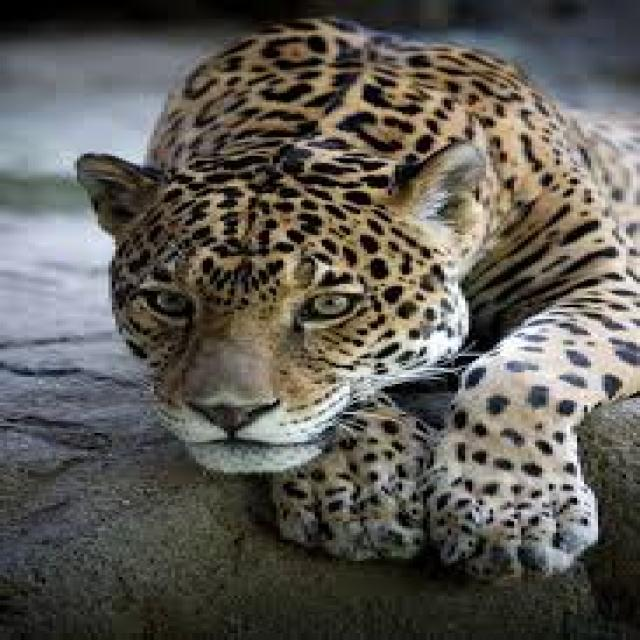Jaguar: (77, 18, 640, 580)
